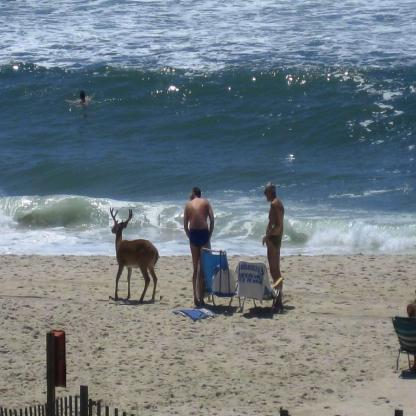Deer: (109, 207, 160, 304)
